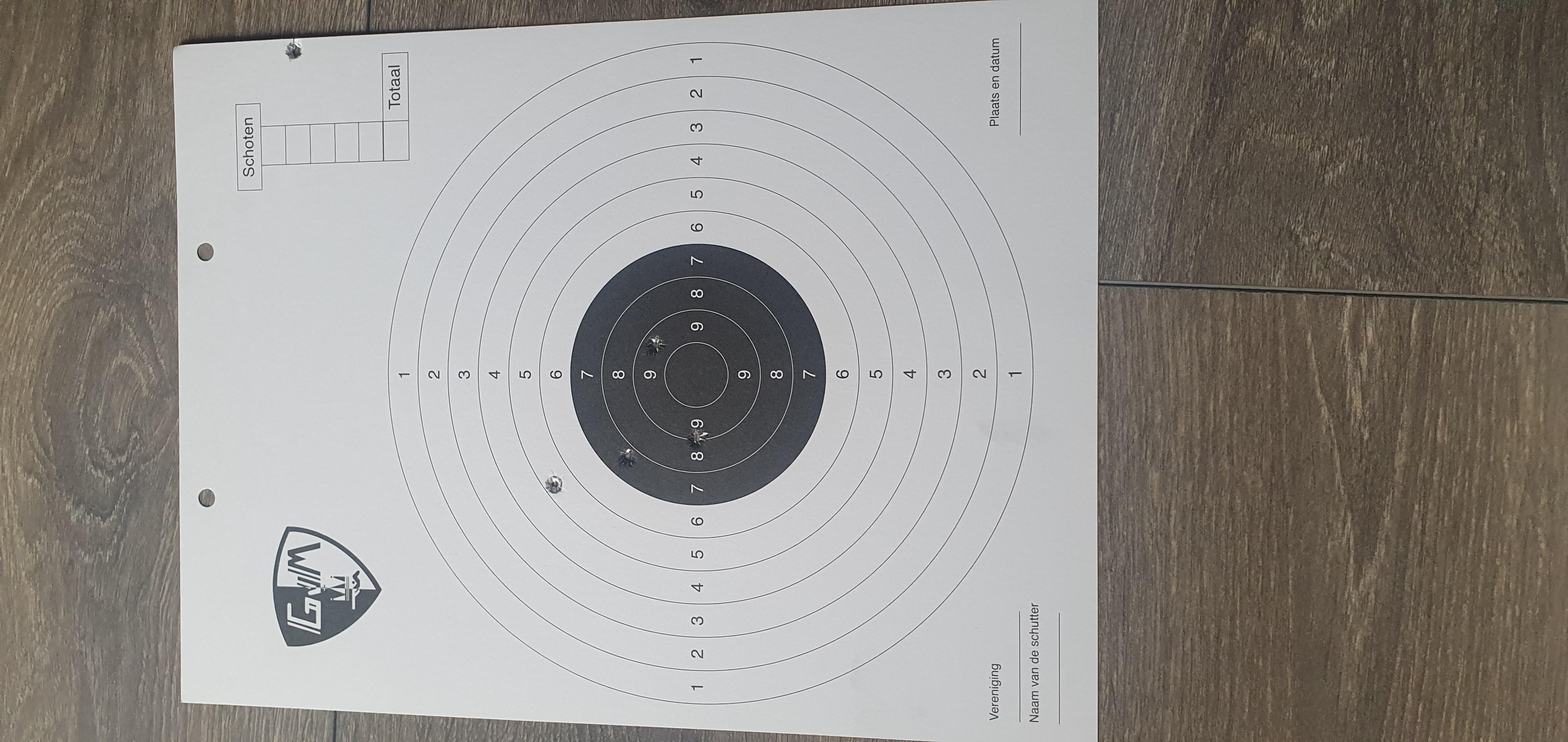hole: (814, 304, 870, 316), (1433, 133, 1488, 145), (520, 256, 568, 267), (574, 292, 626, 302), (616, 324, 662, 334)
